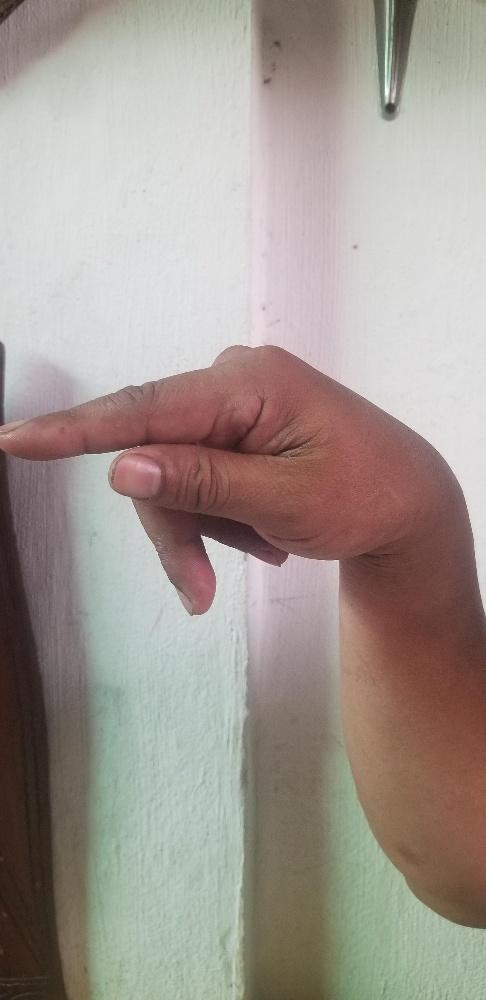p: (0, 338, 465, 617)
